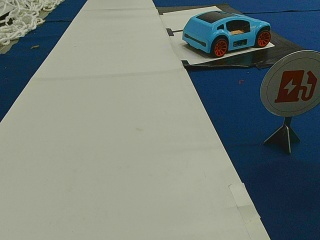battery: (261, 49, 319, 118)
car: (182, 11, 271, 56)
